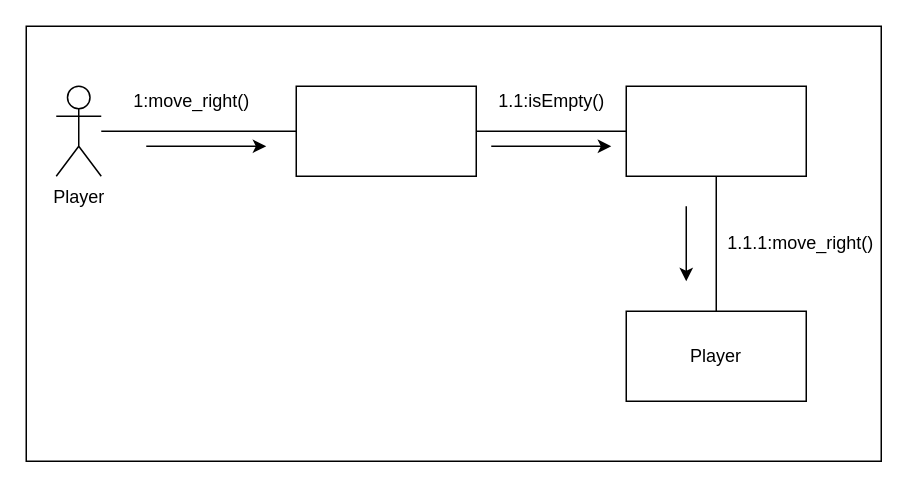
The diagram is 917 pixels wide and 488 high, and some of its shapes have lost their labels. Each missing label, with the centre of its shape:
:Game: the point at 385,130
:Level: the point at 715,130
